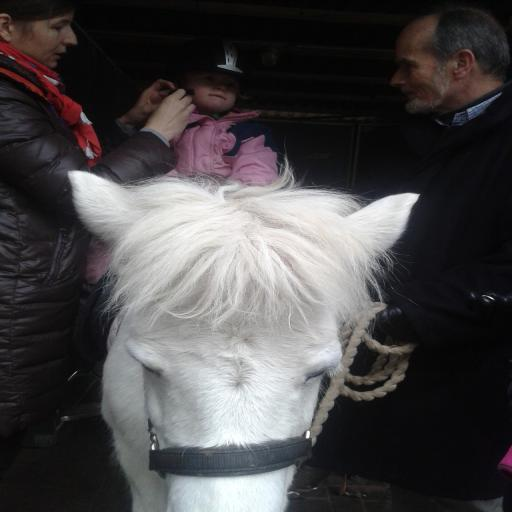Horse: (66, 170, 421, 511)
